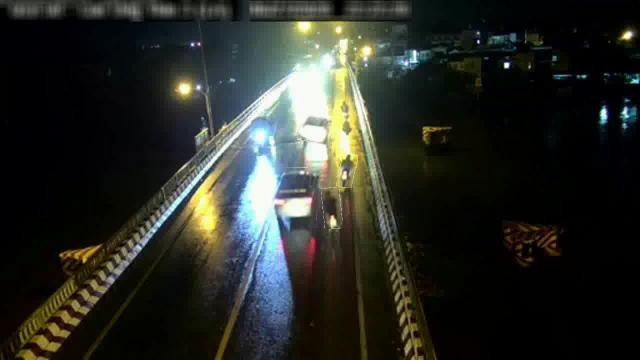Bike: (322, 187, 342, 229), (338, 152, 357, 188), (338, 101, 350, 121)
Car: (271, 167, 317, 220), (298, 112, 332, 144)
